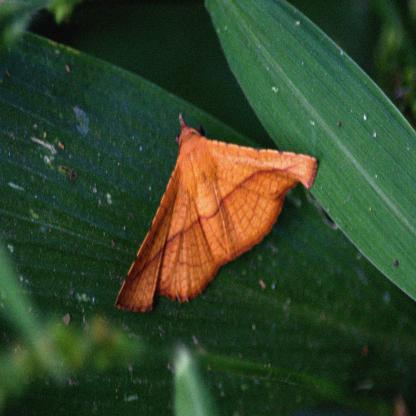Leaf Webber: (114, 105, 326, 310)
